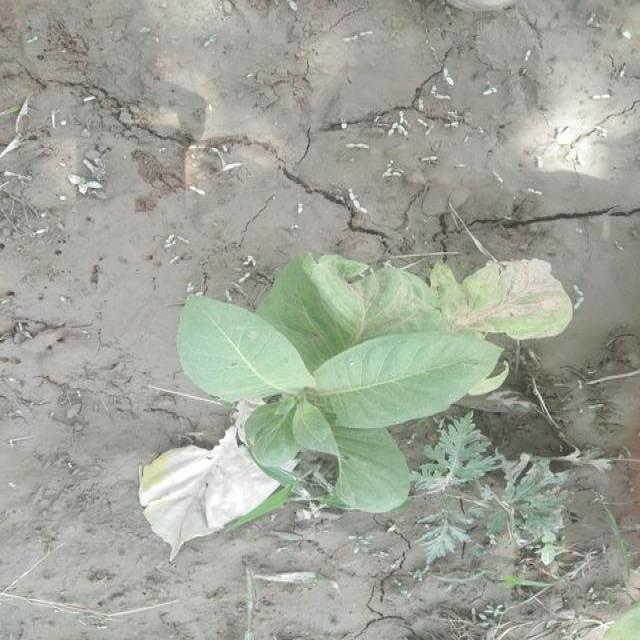crop: (139, 238, 572, 546)
